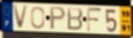5: (105, 8, 119, 33)
B: (66, 7, 84, 32)
F: (86, 7, 103, 33)
O: (30, 6, 46, 30)
P: (50, 6, 67, 31)
V: (12, 5, 30, 31)
